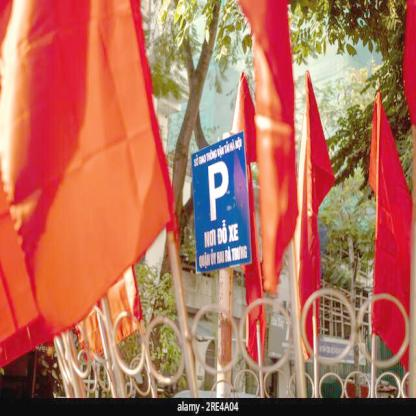Parking: (192, 153, 247, 240)
